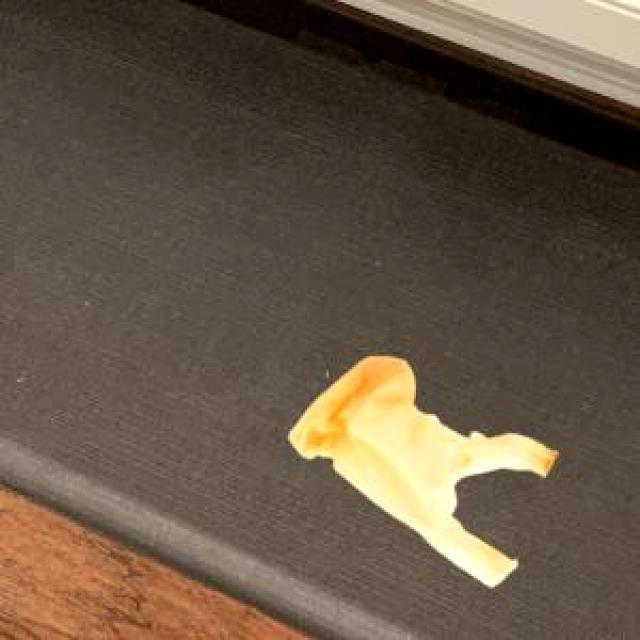Plastic_Bag: (287, 353, 554, 584)
